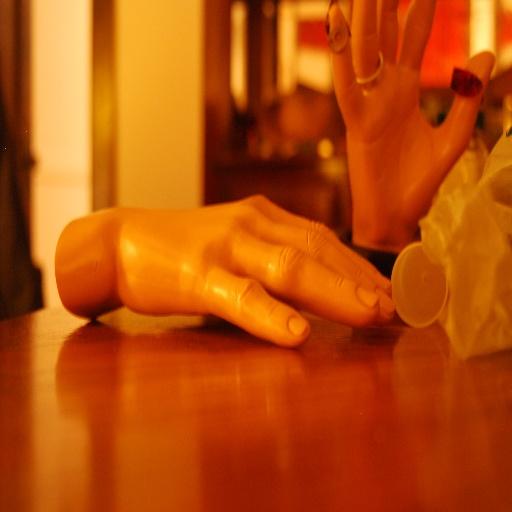hand: (54, 196, 398, 348), (326, 0, 496, 253)
